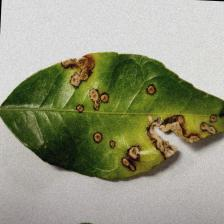canker: (56, 45, 224, 181)
